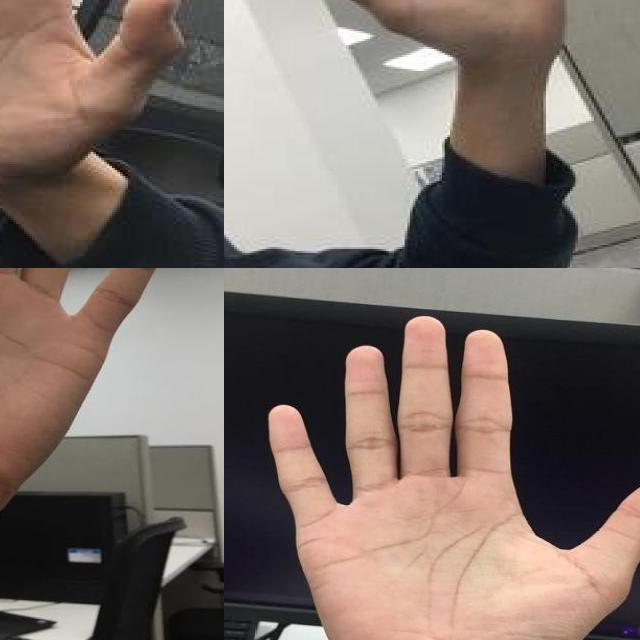hand: (269, 311, 640, 640), (0, 268, 179, 496), (0, 0, 182, 197), (309, 0, 570, 131)
